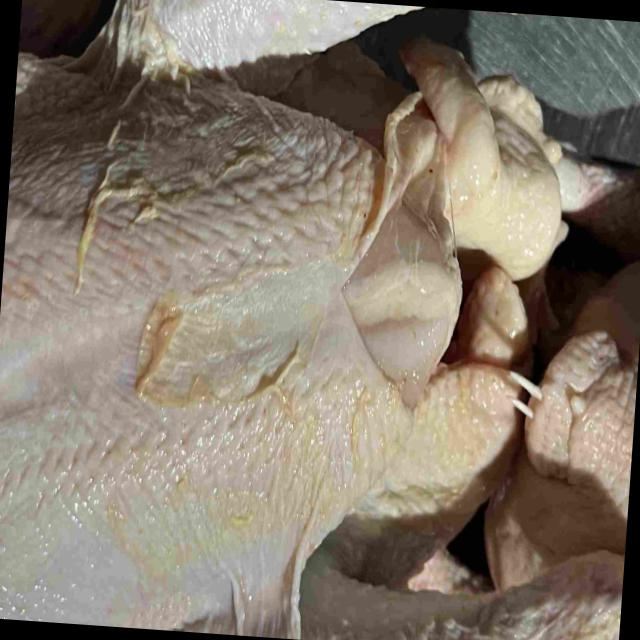breast: (0, 66, 449, 626)
leg: (152, 554, 624, 640), (87, 0, 516, 83)
